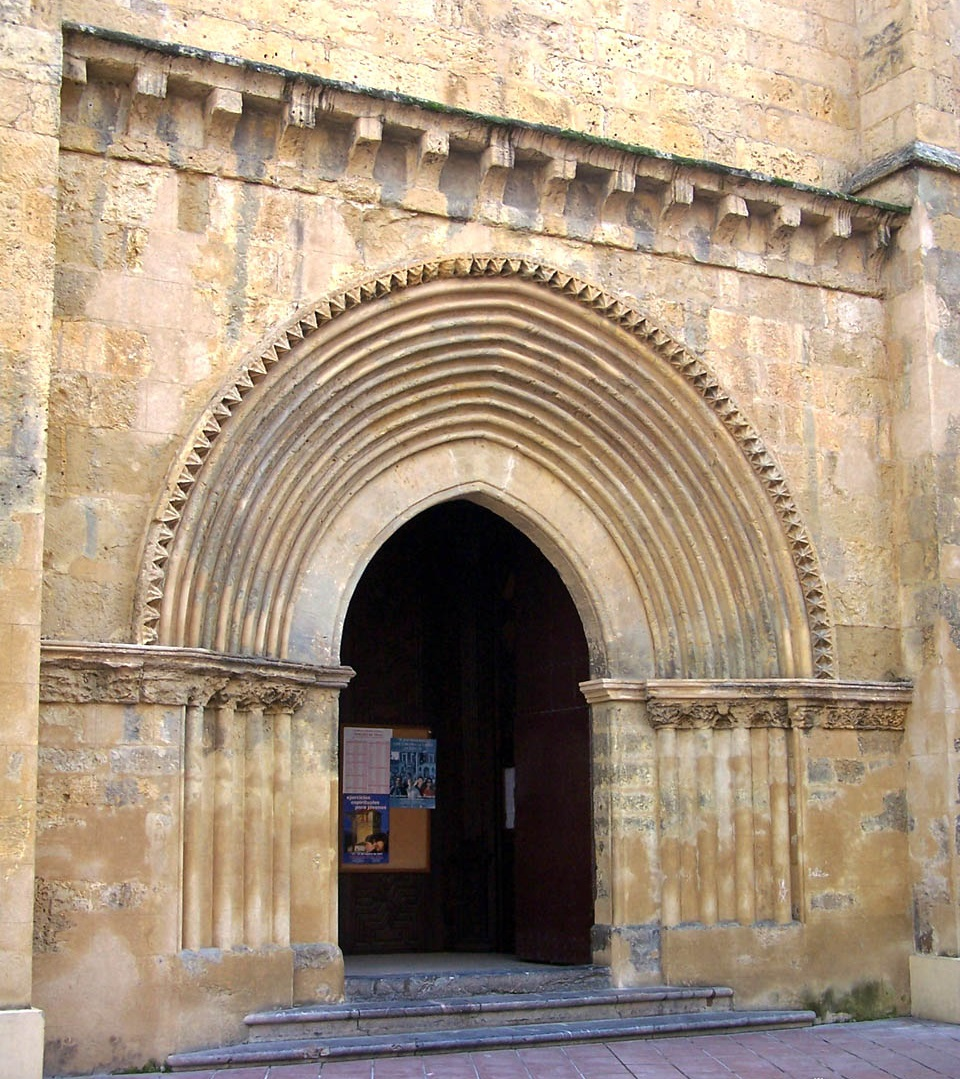arco-apuntado: (322, 472, 633, 716)
